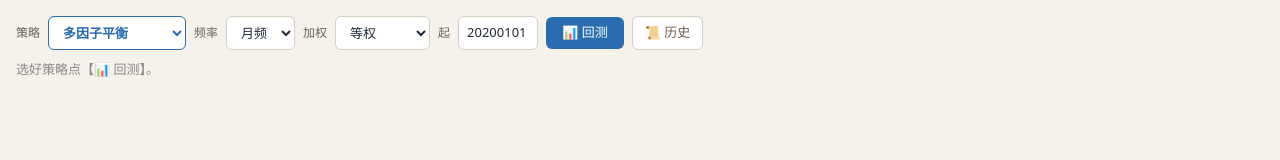
Scenario: BacktestPanel › renders controls + runs backtest on click
Expected: the element with test id "backtest-panel" is shown, [16,16,703,78]
Click the button with test id "backtest-run-btn". click: (585, 33)
box: [546,17,624,49]
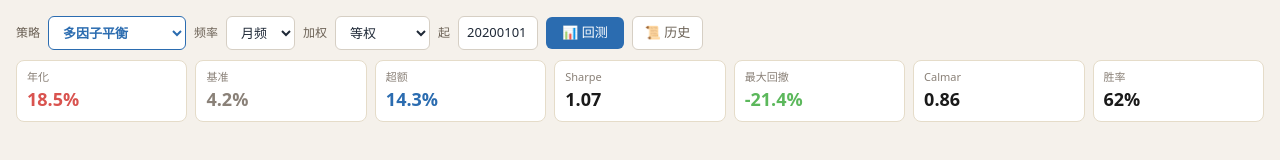
Expected: the text "18.5%" is shown, [27,86,79,110]
